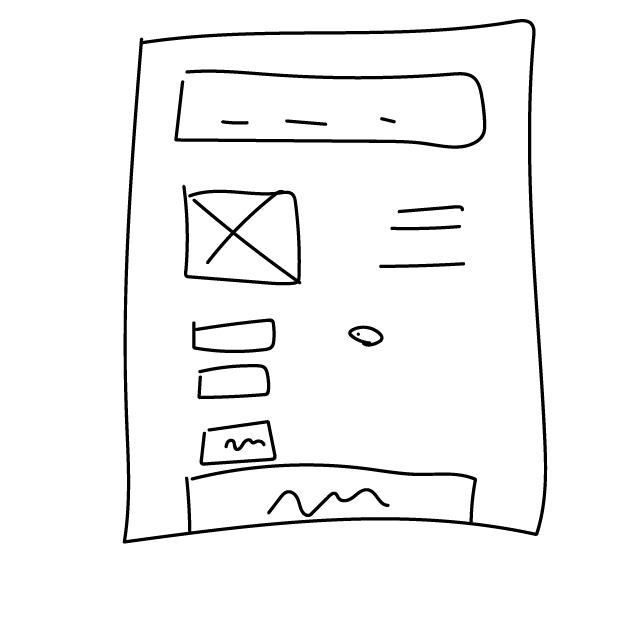buttonrotation: (194, 422, 280, 466)
checkboxrotation: (349, 325, 388, 350)
containerrotation: (112, 14, 565, 554)
footerrotation: (182, 462, 486, 537)
framerotation: (173, 182, 312, 291)
inputrotation: (190, 315, 282, 356), (191, 362, 280, 402)
navrotation: (172, 65, 491, 154)
textrotation: (370, 199, 480, 277)
